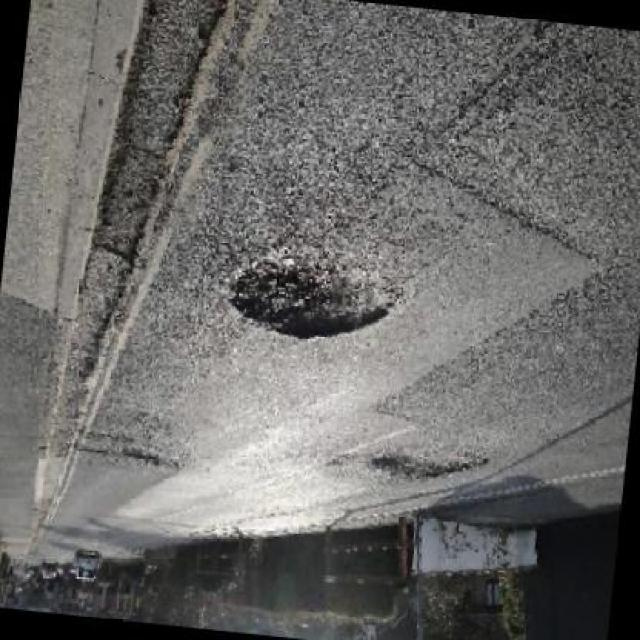pothole: (222, 239, 409, 356), (372, 442, 494, 492)
